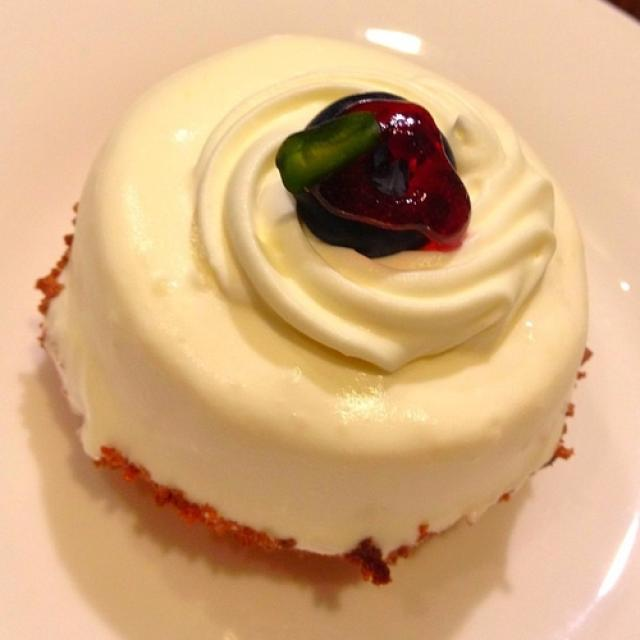熟制海鲜: (13, 28, 627, 471)
